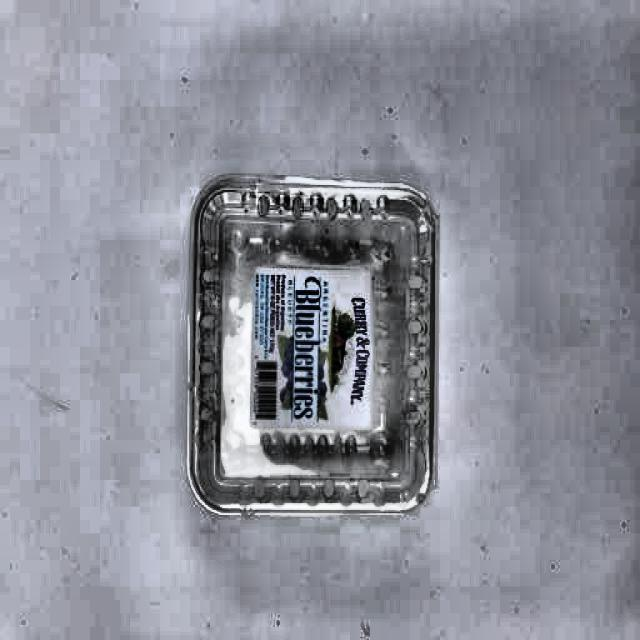plastic: (181, 177, 445, 520)
